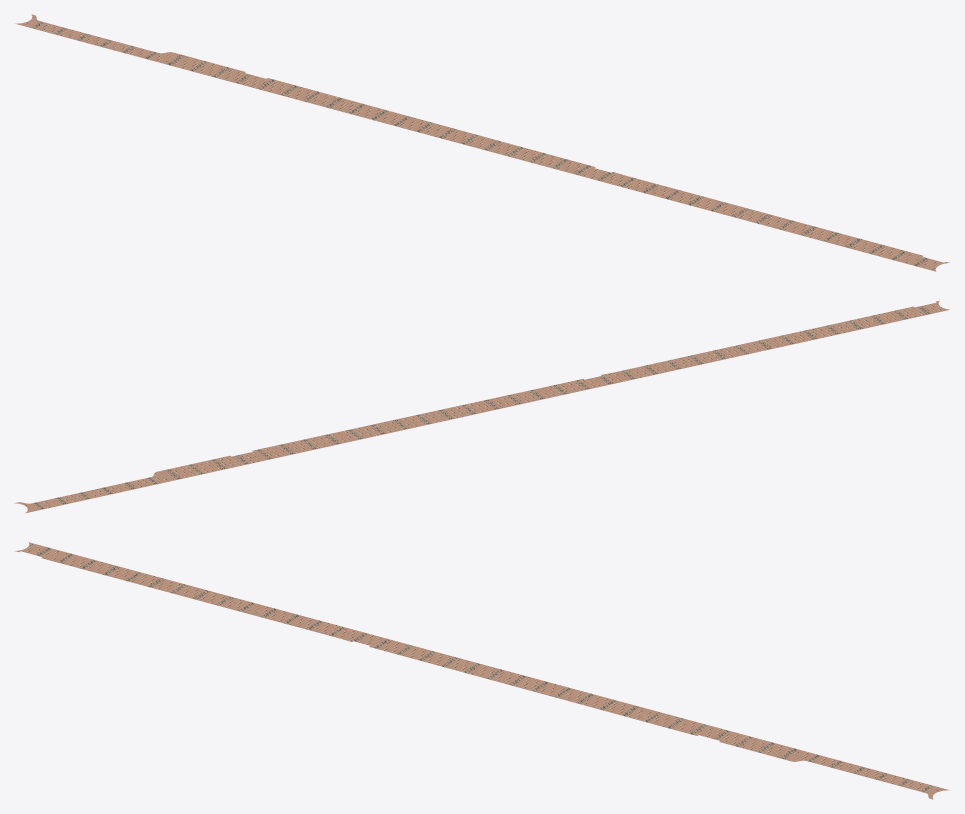
3 renders of one model, top to bottom at view 1: azimuth 90°, elevation 25°; view 2: azimuth 150°, elevation 25°; view 3: azimuth 270°, elevation 25°, orthographic. The views are drawn at different scales.
Parts seen in each view (by area): view 1: 인도, Group_160634; view 2: 인도, Group_160634; view 3: 인도, Group_160634.
Boxes of the visible parts, box(x1,y1,x2,y2) form: 인도: box(15, 14, 949, 271); Group_160634: box(31, 21, 928, 266); 인도: box(14, 300, 949, 513); Group_160634: box(33, 306, 930, 509); 인도: box(15, 542, 949, 799); Group_160634: box(36, 547, 933, 792).
Size of the model in its own units: 22748 by 0.00161 by 34940.
